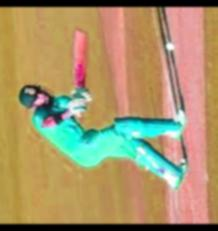batsman: (2, 60, 218, 179)
